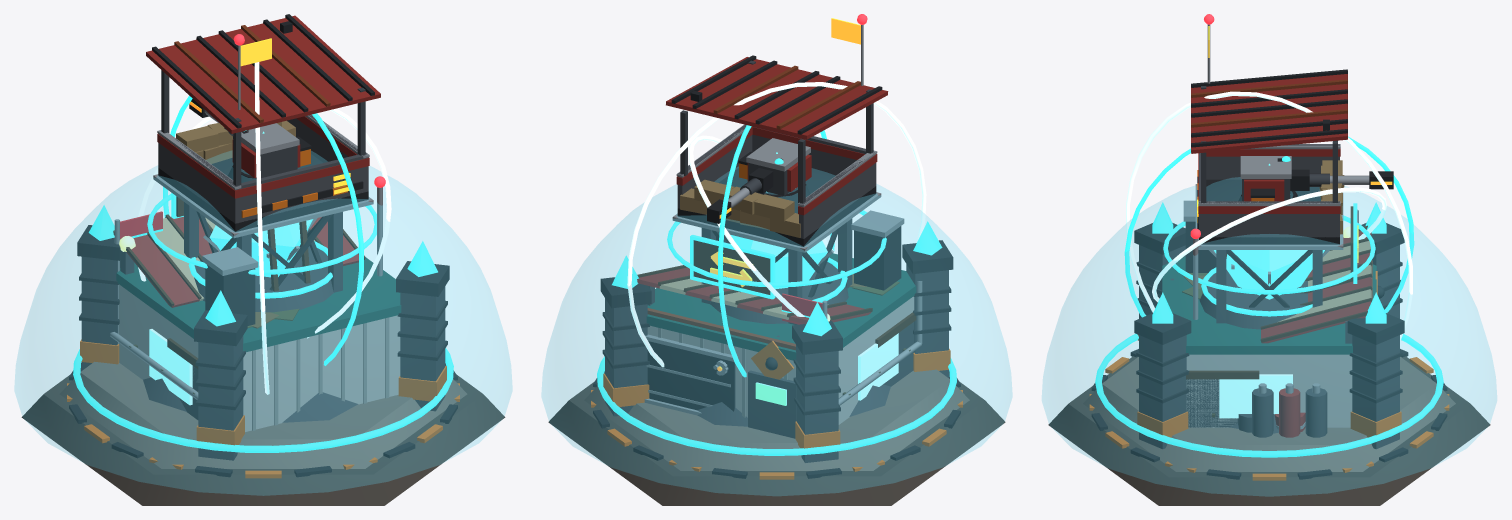
File: buildings.glb
3 views of the same model, side by side, from view 1: azimuth 30°, elevation 25°; view 2: azimuth 150°, elevation 25°; view 3: azimuth 270°, elevation 25° (orthographic). The views are drawn at different scales.
Parts seen in each view (by area): view 1: core_0, b_tower_1, b_lab_1, b_shop_1, head-, ring2-, ring1-, ring3-, crystal-, ring0-, b_barracks_1, b_tower_3; view 2: core_0, b_tower_1, b_lab_1, b_shop_1, head-, ring3-, ring2-, ring0-, crystal-, ring1-, b_barracks_1, b_tower_3; view 3: core_0, b_tower_1, b_lab_1, b_shop_1, head-, crystal-, ring3-, ring2-, ring1-, ring0-.
Boxes of the visible parts, bbox=[...] form: core_0: bbox=[21, 205, 505, 505]; b_tower_1: bbox=[146, 14, 380, 292]; b_lab_1: bbox=[110, 176, 401, 431]; b_shop_1: bbox=[113, 193, 365, 419]; head-: bbox=[196, 104, 311, 182]; ring2-: bbox=[163, 95, 363, 365]; ring1-: bbox=[138, 108, 391, 338]; ring3-: bbox=[254, 62, 269, 394]; crystal-: bbox=[209, 131, 313, 277]; ring0-: bbox=[147, 194, 376, 274]; b_barracks_1: bbox=[114, 211, 270, 394]; b_tower_3: bbox=[240, 38, 350, 181]; core_0: bbox=[548, 221, 1005, 505]; b_tower_1: bbox=[666, 55, 888, 324]; b_lab_1: bbox=[644, 210, 922, 438]; b_shop_1: bbox=[637, 235, 916, 386]; head-: bbox=[714, 138, 811, 216]; ring3-: bbox=[627, 82, 926, 367]; ring2-: bbox=[718, 125, 834, 377]; ring0-: bbox=[667, 210, 886, 287]; crystal-: bbox=[730, 152, 827, 289]; ring1-: bbox=[688, 135, 835, 316]; b_barracks_1: bbox=[777, 293, 910, 395]; b_tower_3: bbox=[831, 18, 860, 44]; core_0: bbox=[1048, 202, 1490, 505]; b_tower_1: bbox=[1191, 69, 1347, 323]; b_lab_1: bbox=[1162, 200, 1384, 437]; b_shop_1: bbox=[1182, 203, 1372, 432]; head-: bbox=[1238, 156, 1379, 201]; crystal-: bbox=[1214, 163, 1324, 299]; ring3-: bbox=[1126, 91, 1412, 341]; ring2-: bbox=[1124, 136, 1414, 317]; ring1-: bbox=[1152, 187, 1386, 302]; ring0-: bbox=[1163, 215, 1375, 294].
Bounding box in the file's own units: 6.8 × 7 × 6.8.
